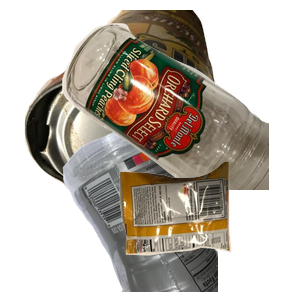glass: (60, 21, 300, 201)
metal: (22, 10, 251, 190)
plastic: (60, 120, 300, 300)
trash: (117, 159, 300, 300)
